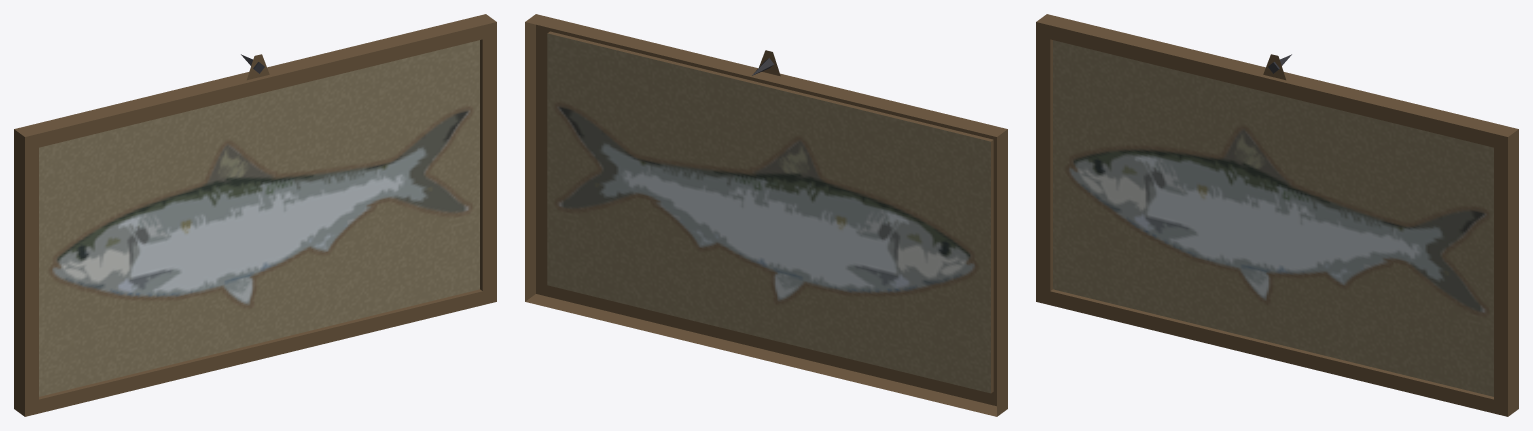
Rendered from Paint_1.fbx.
3 renders of one model, left to right at view 1: azimuth 30°, elevation 25°; view 2: azimuth 150°, elevation 25°; view 3: azimuth 330°, elevation 25°, orthographic.
Visible parts, largest first — view 1: polySurface1519; view 2: polySurface1519; view 3: polySurface1519.
Boxes of the visible parts, x1,y1,x2,y2 form: polySurface1519: (14,14,496,416); polySurface1519: (525,14,1007,416); polySurface1519: (1036,14,1518,416).
Size of the model in its own units: 150 by 91.83 by 11.26.
